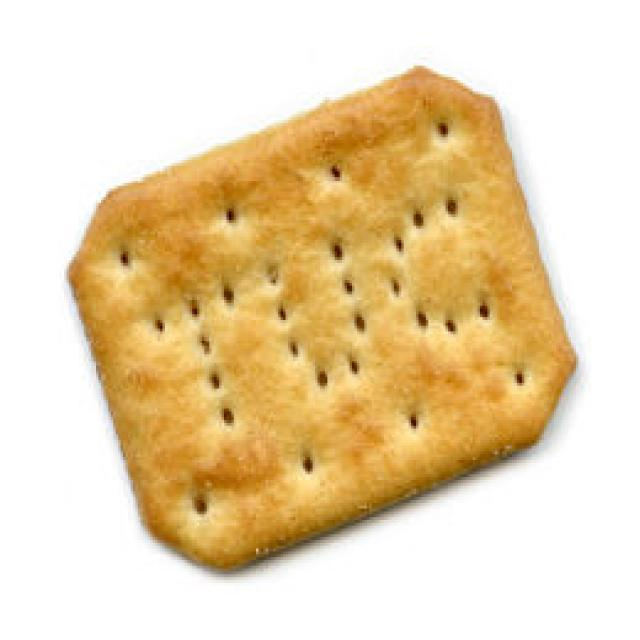Cracker: (66, 52, 586, 589)
